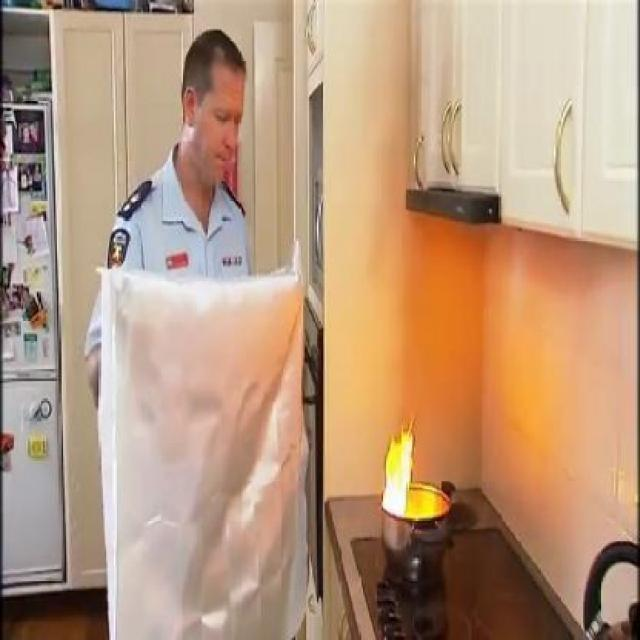fire: (374, 404, 440, 518)
